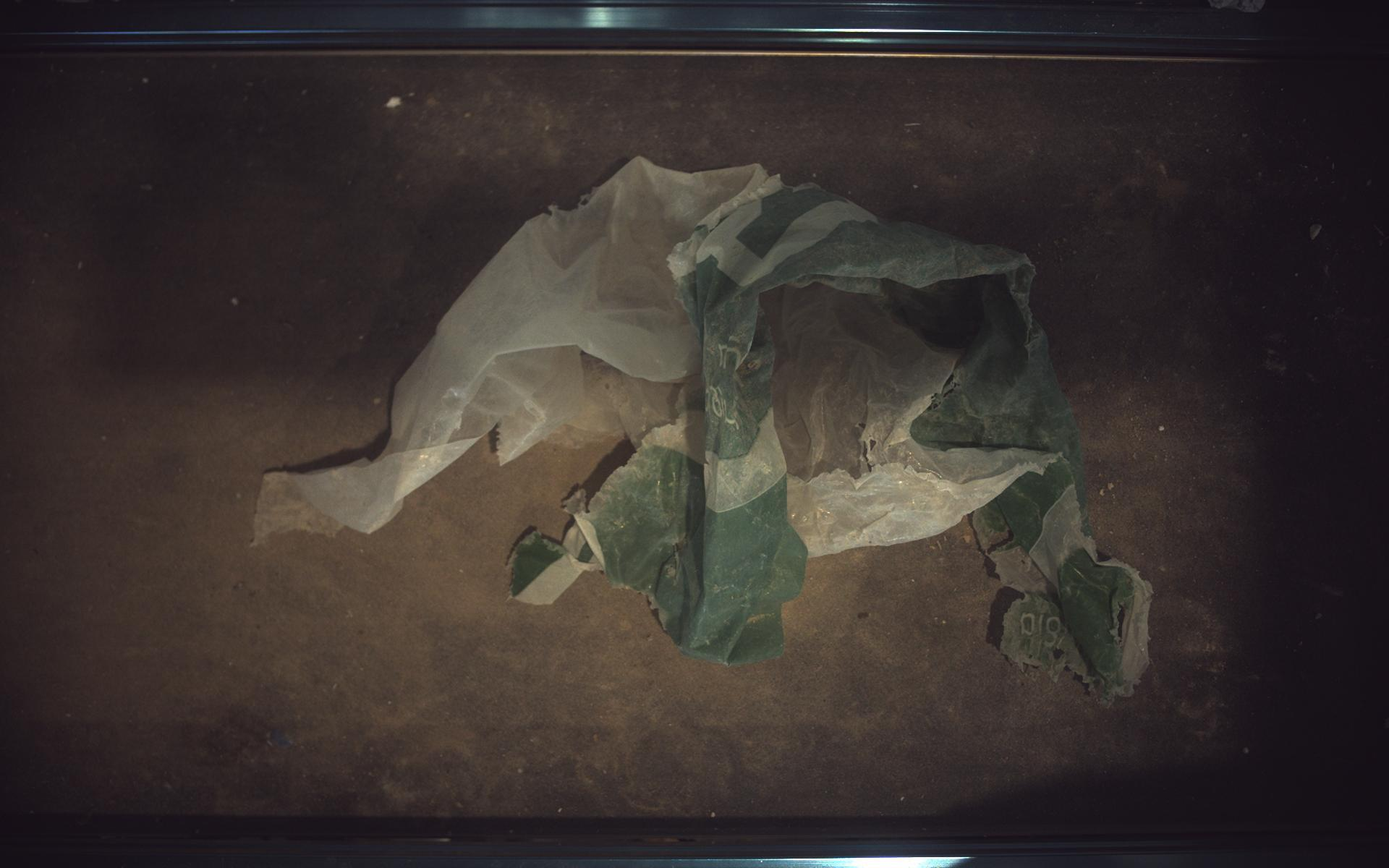general_w: (255, 157, 1153, 702)
